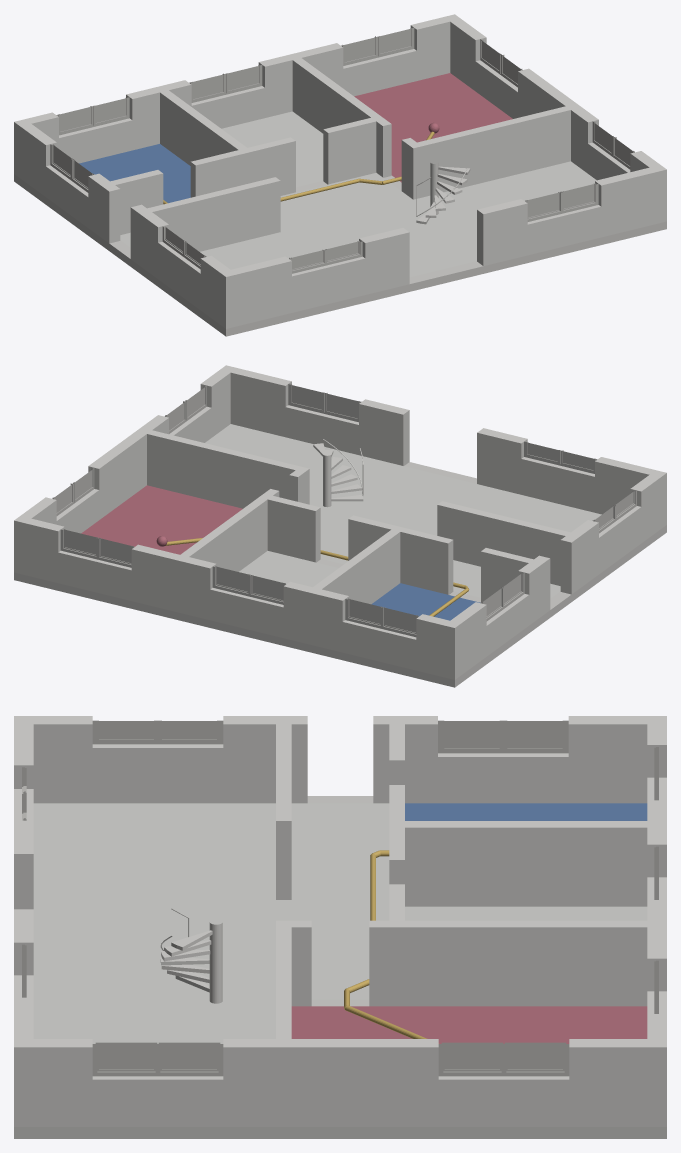
The model's file is ifc-room-route-cutaway.glb.
3 renders of one model, top to bottom at view 1: azimuth 30°, elevation 25°; view 2: azimuth 150°, elevation 25°; view 3: azimuth 270°, elevation 25°, orthographic. The views are drawn at different scales.
Visible parts, largest first — view 1: IfcWallStandardCase/IFC_27421, IfcWallStandardCase/IFC_32407, IfcWallStandardCase/IFC_21966, RoomFootprints/33774_Wohnen, IfcWallStandardCase/IFC_18698, IfcWallStandardCase/IFC_15042, IfcWallStandardCase/IFC_31470, RoomFootprints/20909_Schlafzimmer, IfcSlab/IFC_34509, IfcWallStandardCase/IFC_20598, IfcWallStandardCase/IFC_17040, RoomFootprints/34191_Flur (+14 smaller); view 2: IfcWallStandardCase/IFC_32407, IfcWallStandardCase/IFC_27421, IfcWallStandardCase/IFC_21966, RoomFootprints/33774_Wohnen, IfcWallStandardCase/IFC_18698, IfcWallStandardCase/IFC_31470, IfcWallStandardCase/IFC_15042, IfcSlab/IFC_34509, RoomFootprints/20909_Schlafzimmer, IfcWallStandardCase/IFC_20598, IfcWallStandardCase/IFC_17040, IfcWallStandardCase/IFC_18465 (+14 smaller); view 3: IfcWallStandardCase/IFC_31470, IfcWallStandardCase/IFC_21966, RoomFootprints/34763_KÃ¼che, IfcWallStandardCase/IFC_17040, RoomFootprints/33774_Wohnen, IfcWallStandardCase/IFC_18465, RoomFootprints/34191_Flur, RoomFootprints/20909_Schlafzimmer, IfcSlab/IFC_34509, IfcWallStandardCase/IFC_27421, IfcWallStandardCase/IFC_32407, IfcWindow/IFC_31818 (+9 smaller).
Boxes of the visible parts, box(x1,y1,x2,y2) form: IfcWallStandardCase/IFC_27421: box(226, 167, 666, 328); IfcWallStandardCase/IFC_32407: box(14, 14, 454, 163); IfcWallStandardCase/IFC_21966: box(14, 122, 230, 328); RoomFootprints/33774_Wohnen: box(314, 161, 596, 277); IfcWallStandardCase/IFC_18698: box(110, 118, 376, 234); IfcWallStandardCase/IFC_15042: box(413, 106, 570, 199); IfcWallStandardCase/IFC_31470: box(450, 14, 666, 180); RoomFootprints/20909_Schlafzimmer: box(354, 73, 512, 182); IfcSlab/IFC_34509: box(14, 174, 666, 336); IfcWallStandardCase/IFC_20598: box(147, 177, 280, 251); IfcWallStandardCase/IFC_17040: box(292, 58, 416, 199); RoomFootprints/34191_Flur: box(120, 172, 412, 247); IfcWallStandardCase/IFC_32407: box(14, 518, 454, 679); IfcWallStandardCase/IFC_27421: box(226, 365, 666, 514); IfcWallStandardCase/IFC_21966: box(450, 473, 666, 679); RoomFootprints/33774_Wohnen: box(205, 424, 487, 532); IfcWallStandardCase/IFC_18698: box(267, 496, 533, 602); IfcWallStandardCase/IFC_31470: box(14, 365, 230, 533); IfcWallStandardCase/IFC_15042: box(147, 430, 308, 508); IfcSlab/IFC_34509: box(14, 462, 666, 687); RoomFootprints/20909_Schlafzimmer: box(81, 485, 242, 554); IfcWallStandardCase/IFC_20598: box(437, 501, 570, 585); IfcWallStandardCase/IFC_17040: box(180, 468, 309, 571); IfcWallStandardCase/IFC_18465: box(313, 529, 400, 604); IfcWallStandardCase/IFC_31470: box(14, 1039, 666, 1126); IfcWallStandardCase/IFC_21966: box(14, 716, 666, 803); RoomFootprints/34763_KÃ¼che: box(33, 803, 275, 924); IfcWallStandardCase/IFC_17040: box(277, 920, 647, 1006); RoomFootprints/33774_Wohnen: box(33, 924, 275, 1043); IfcWallStandardCase/IFC_18465: box(405, 821, 647, 906); RoomFootprints/34191_Flur: box(276, 803, 389, 999); RoomFootprints/20909_Schlafzimmer: box(291, 1006, 647, 1043); IfcSlab/IFC_34509: box(14, 796, 666, 1138); IfcWallStandardCase/IFC_27421: box(14, 716, 33, 1046); IfcWallStandardCase/IFC_32407: box(647, 716, 666, 1046); IfcWindow/IFC_31818: box(438, 1042, 569, 1076).
Bounding box in the file's own units: 12 × 1.55 × 10.
